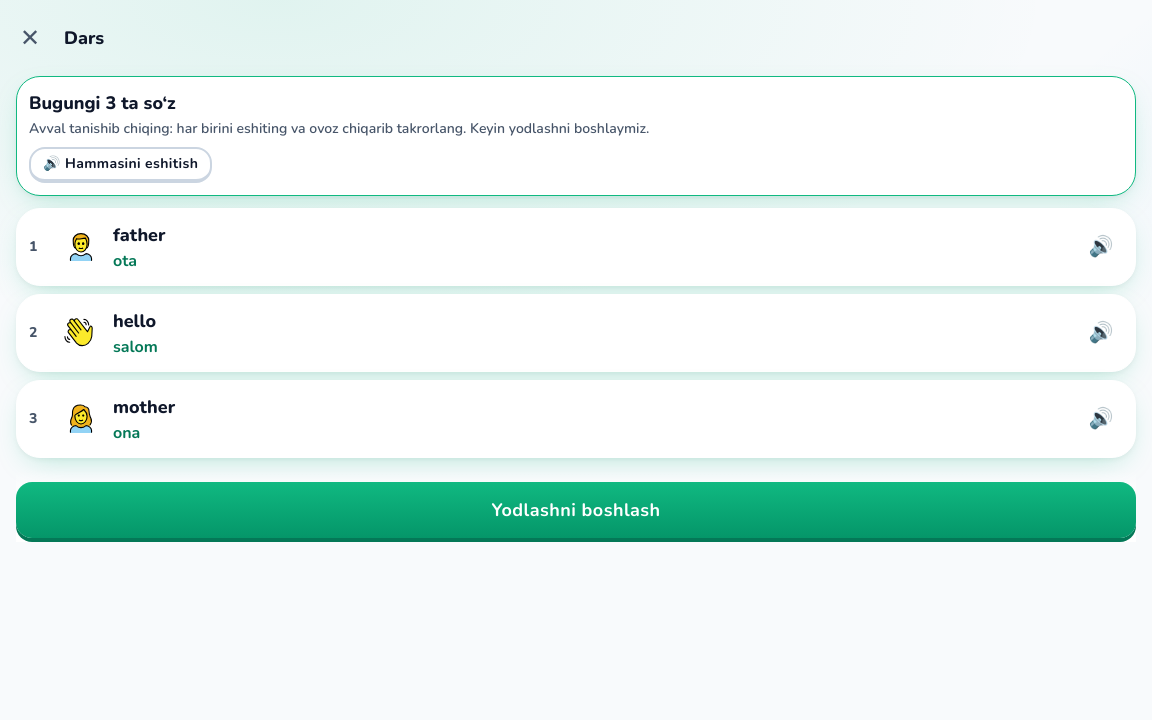
Test: LessonScreen — aralash takror bosqichi › BIRINCHI darsda aralash bosqich YO‘Q
Step 1. Click the button with test id "preview-start" → (576, 510), box [16,482,1136,538]
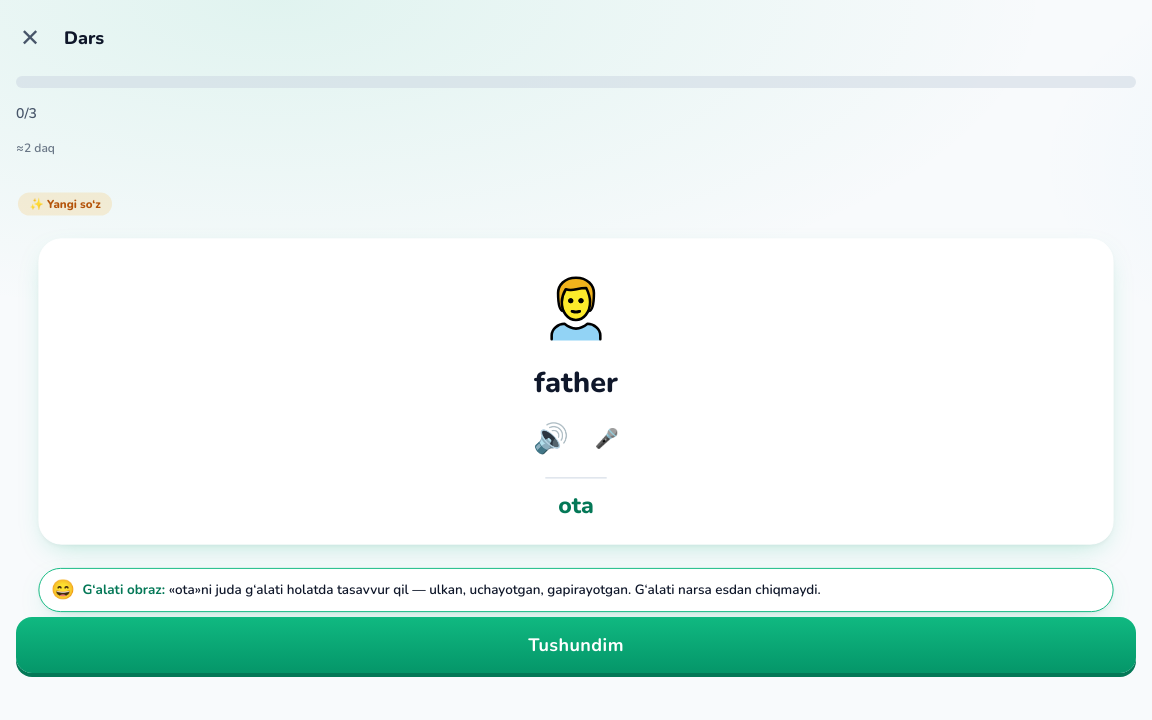
expect the heading "Dars" is shown: met, box [64,24,104,52]
expect the text "0/3" is shown: met, box [16,104,37,123]
